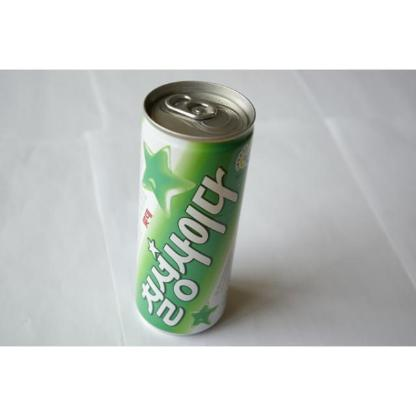Can: (139, 78, 255, 336)
